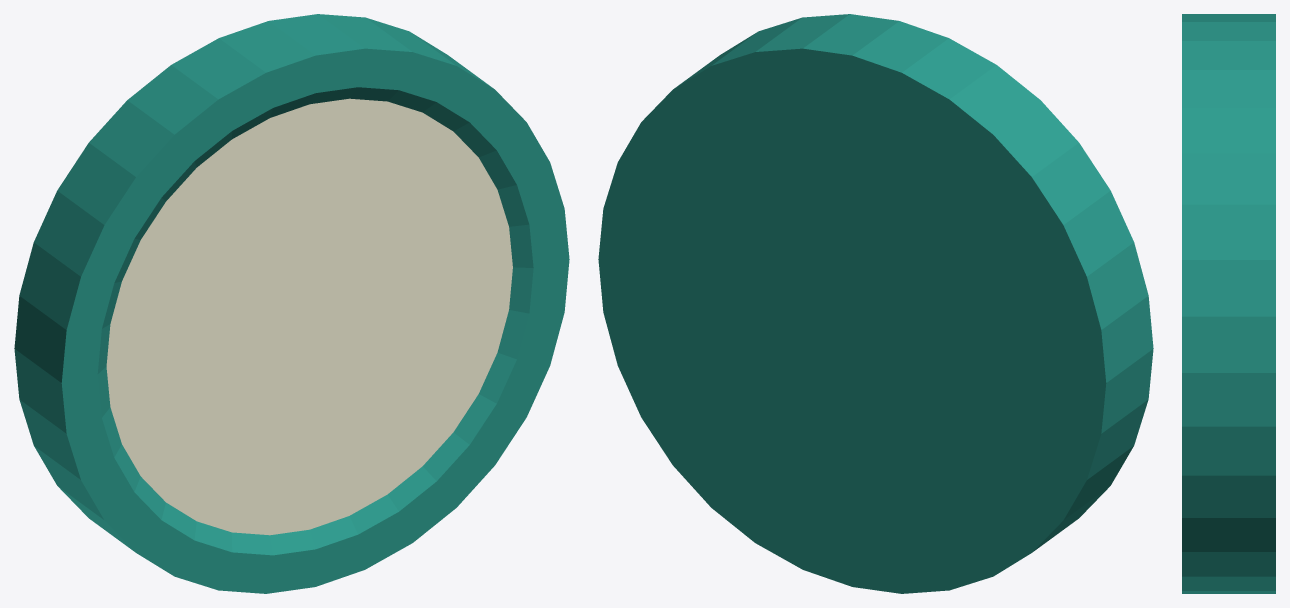
The model's file is RELOJ.glb.
3 renders of one model, left to right at view 1: azimuth 30°, elevation 25°; view 2: azimuth 150°, elevation 25°; view 3: azimuth 270°, elevation 25°, orthographic.
Visible parts, largest first — view 1: RELOJ; view 2: RELOJ; view 3: RELOJ.
Part boxes in pixels (x1=…): RELOJ: x1=14, y1=14, x2=569, y2=593; RELOJ: x1=598, y1=14, x2=1153, y2=593; RELOJ: x1=1182, y1=14, x2=1275, y2=593.
Bounding box in the file's own units: 1.93 × 1.93 × 0.3121.
Materials: 1 (1 with a texture image).
